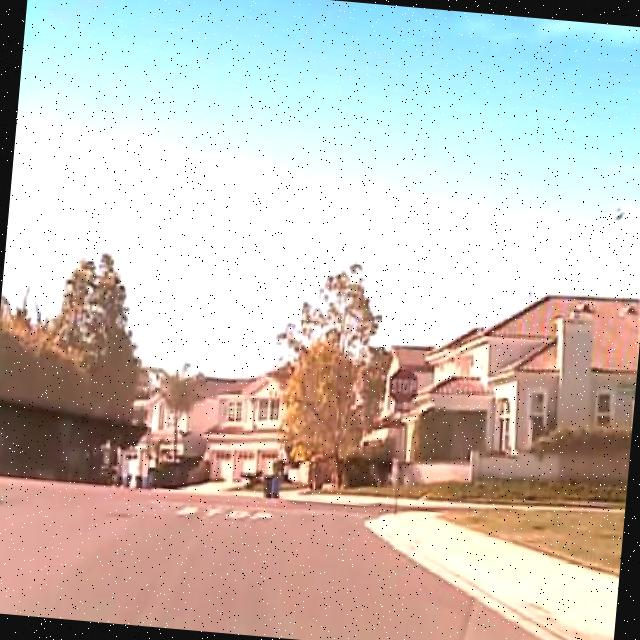Stop: (386, 366, 421, 407)
